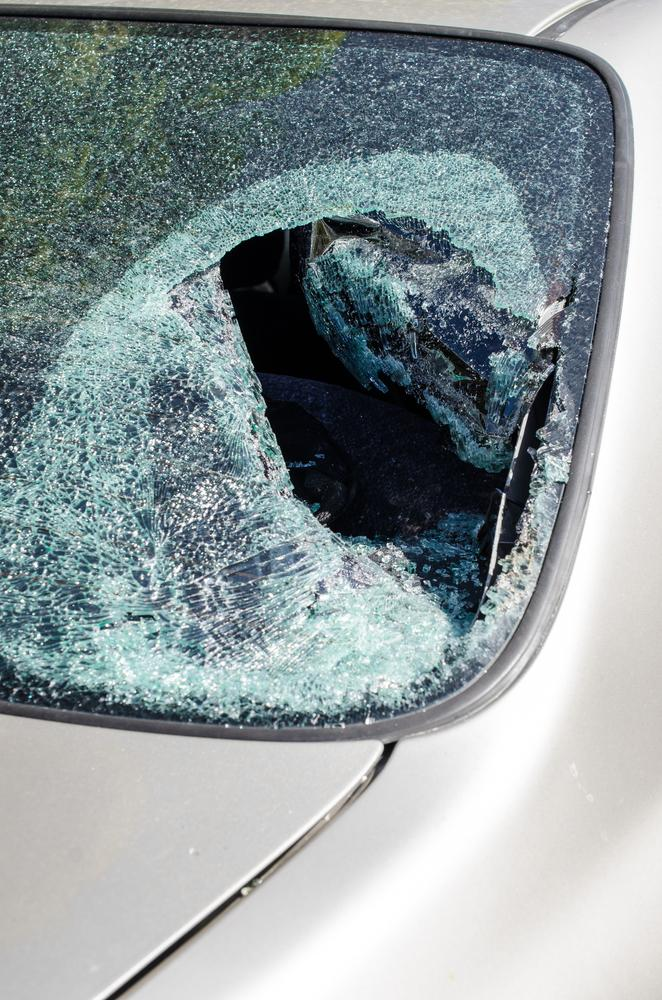glass shatter: (0, 11, 615, 729)
